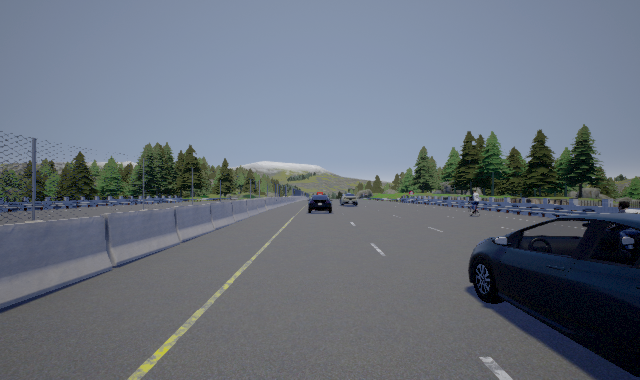bike: (465, 188, 484, 219)
vehicle: (468, 213, 640, 377), (307, 192, 333, 213), (340, 192, 360, 208)
